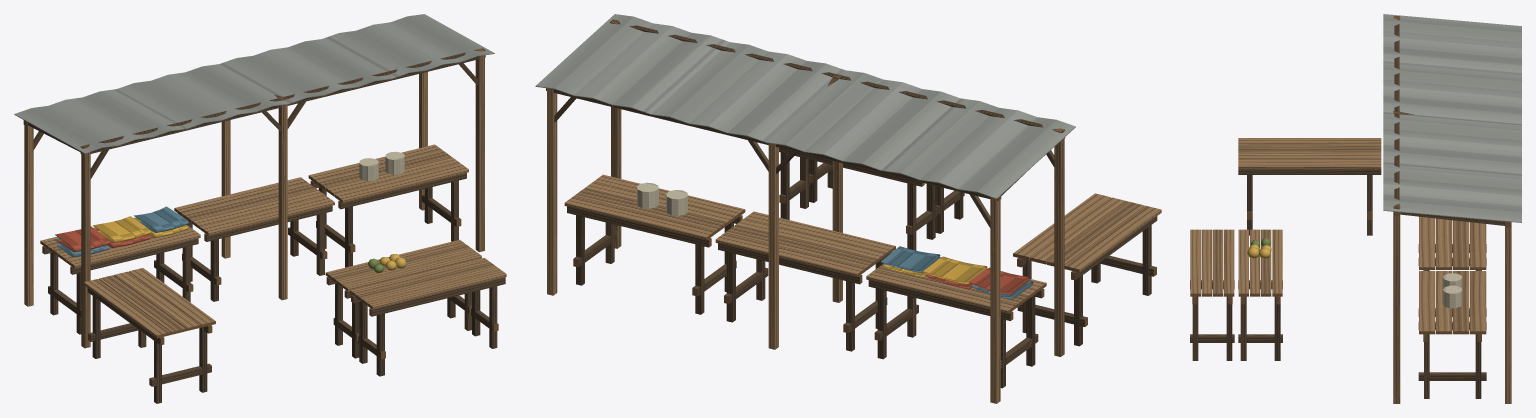
File: nairobi.glb
3 renders of one model, left to right at view 1: azimuth 30°, elevation 25°; view 2: azimuth 150°, elevation 25°; view 3: azimuth 270°, elevation 25°, orthographic. The views are drawn at different scales.
Visible parts, largest first — view 1: nairobi; view 2: nairobi; view 3: nairobi.
Boxes of the visible parts, bbox=[...] form: nairobi: bbox=[14, 14, 506, 403]; nairobi: bbox=[535, 14, 1161, 403]; nairobi: bbox=[1190, 14, 1521, 403].
Bounding box in the file's own units: 5.23 × 2.45 × 3.71.
Materials: 1 (1 with a texture image).
